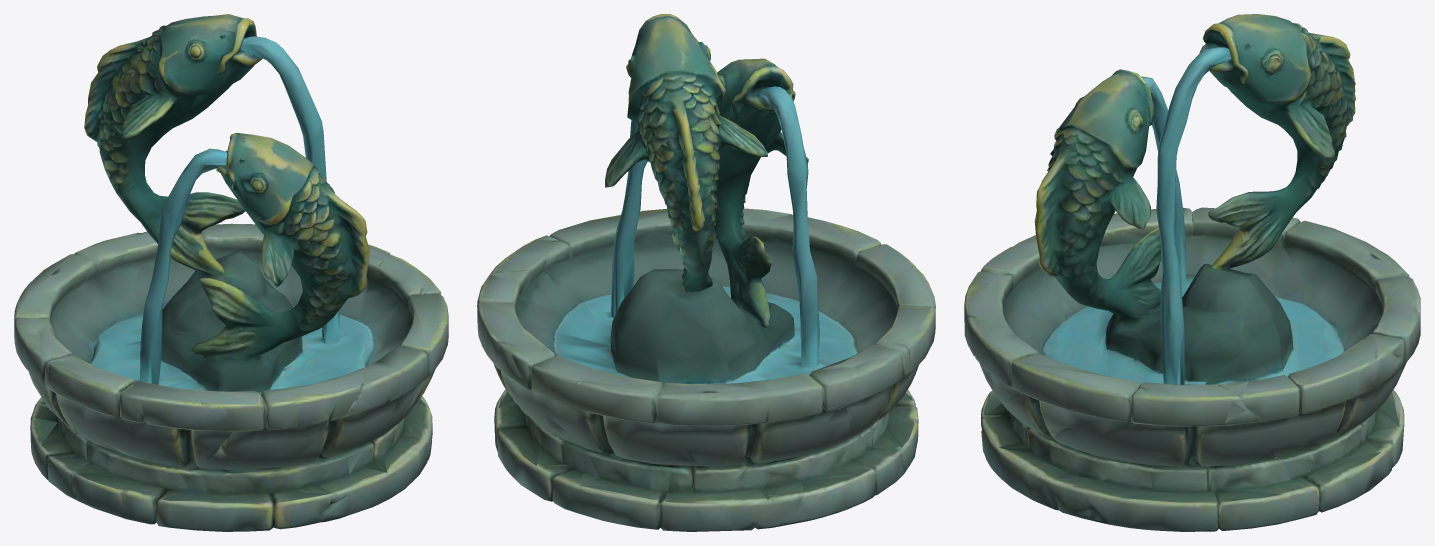
The model's file is prop_lantern_koi.fbx.
3 views of the same model, side by side, from view 1: azimuth 30°, elevation 25°; view 2: azimuth 150°, elevation 25°; view 3: azimuth 270°, elevation 25° (orthographic). The views are drawn at different scales.
Parts seen in each view (by area): view 1: tripo_node_f85d8806-2188-4605-8b9c-92c2842021fe; view 2: tripo_node_f85d8806-2188-4605-8b9c-92c2842021fe; view 3: tripo_node_f85d8806-2188-4605-8b9c-92c2842021fe.
Part boxes in pixels (x1,y1,x2,y2): tripo_node_f85d8806-2188-4605-8b9c-92c2842021fe: (14, 14, 448, 531); tripo_node_f85d8806-2188-4605-8b9c-92c2842021fe: (477, 14, 935, 531); tripo_node_f85d8806-2188-4605-8b9c-92c2842021fe: (964, 14, 1420, 531).
Size of the model in its own units: 0.9371 by 0.9797 by 0.9371.
